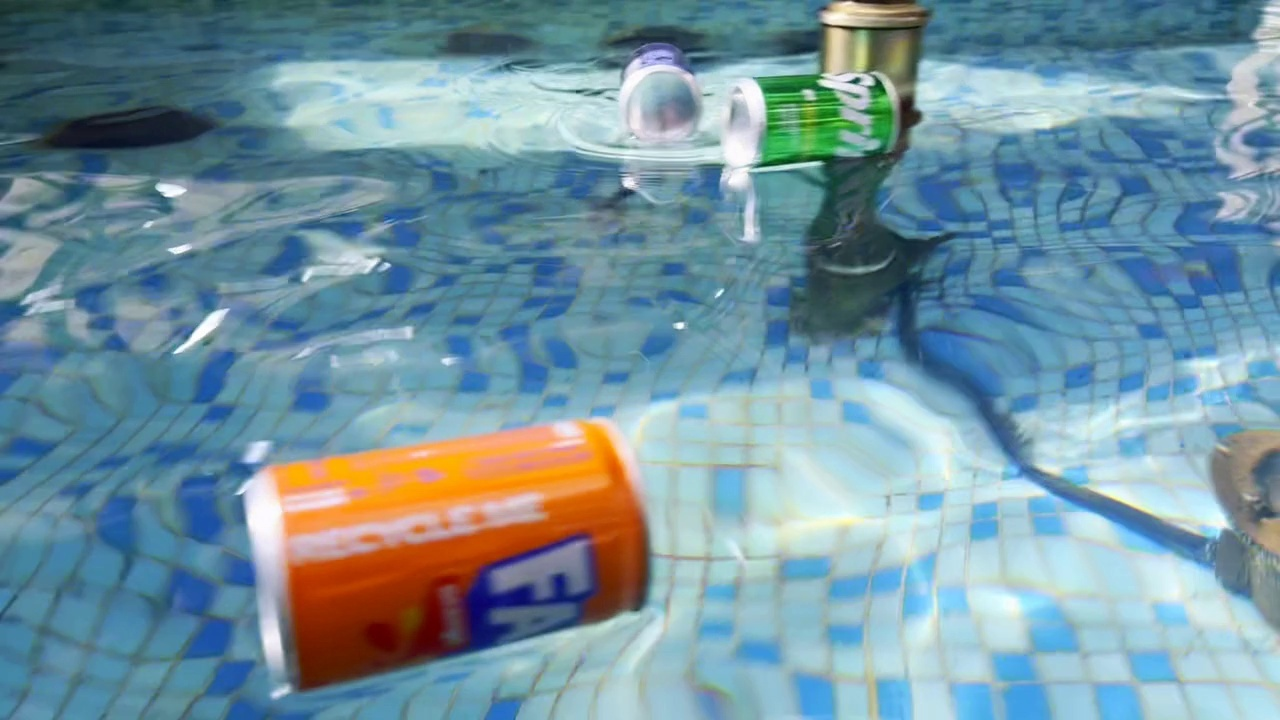debris: (233, 387, 656, 699), (718, 60, 909, 170), (609, 28, 707, 153)
